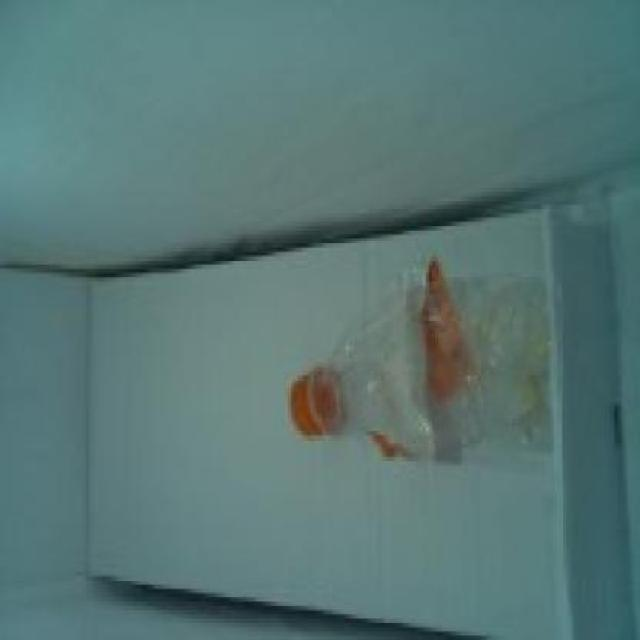Pet_Bottle: (283, 246, 554, 469)
